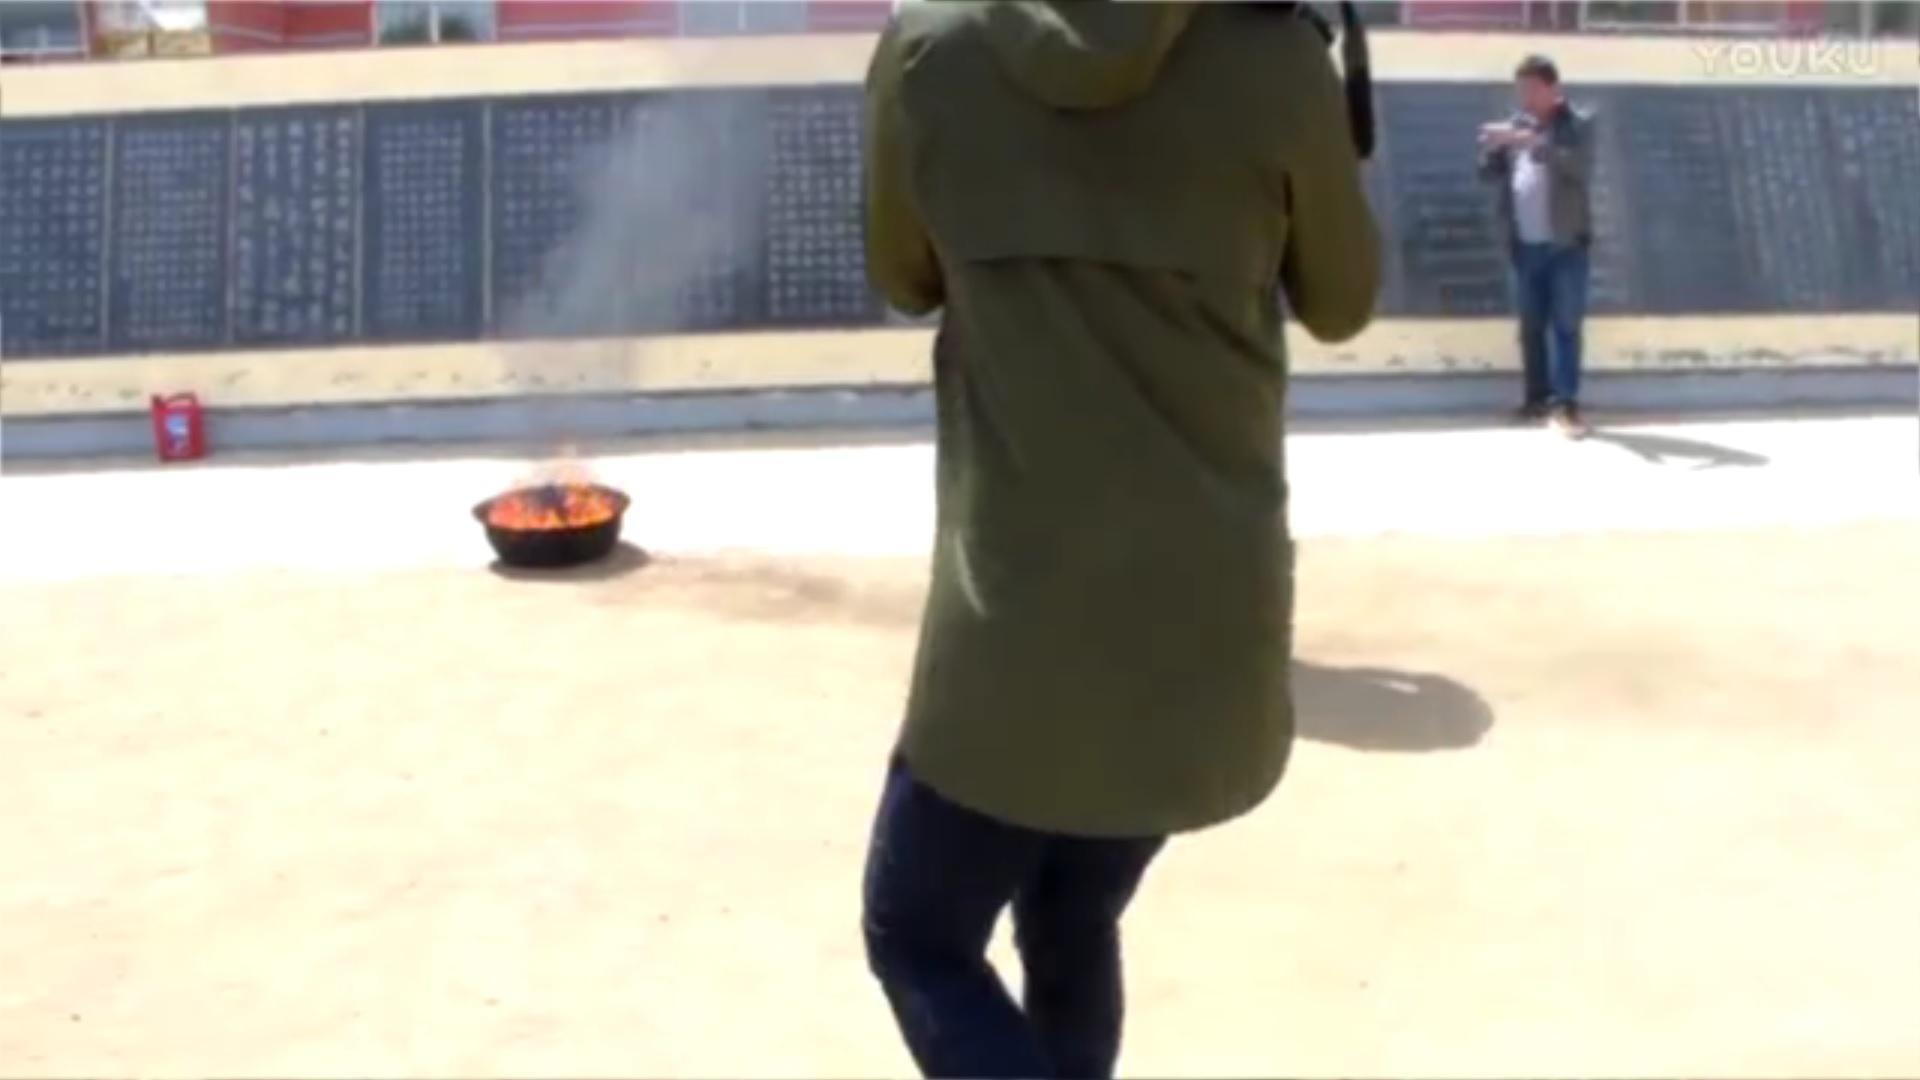fire: (480, 465, 628, 543)
